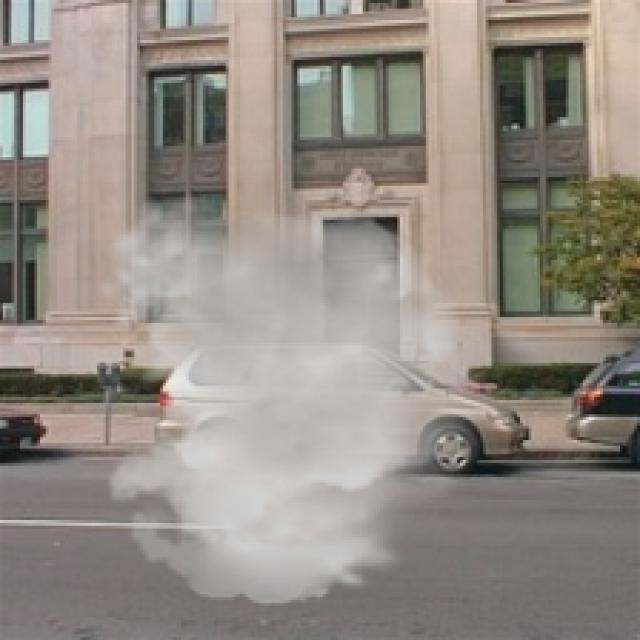Smoke: (92, 194, 514, 606)
